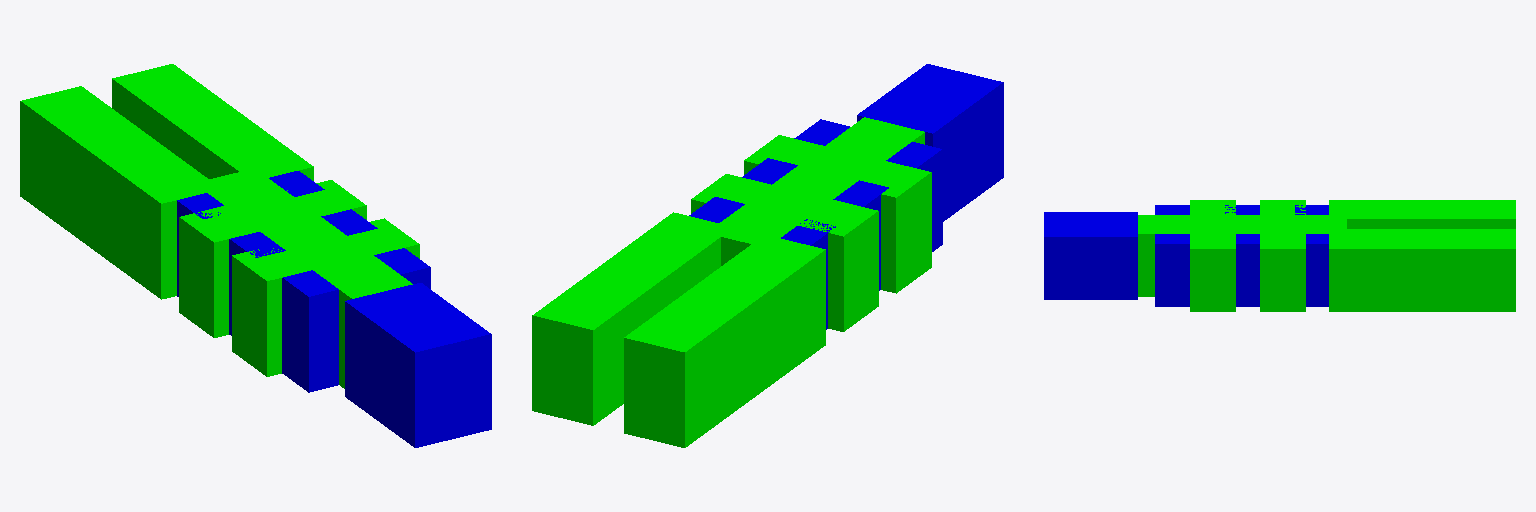
The robot description file, URDF, robot "robot":
<robot name = "robot">
    <link name="root">
        <inertial>
            <origin xyz="0.0 0.0 1.5" rpy="0 0 0"/>
            <mass value="1" />
            <inertia ixx="100" ixy="0" ixz="0" iyy="100" iyz="0" izz="100" />
        </inertial>
        <visual>
            <origin xyz="0.0 0.0 1.5" rpy="0 0 0"/>
            <geometry>
                <box size="0 0 0.0001" />
            </geometry>
            <material name="Green">
                <color rgba="0 1.0 0.0 1.0"/>
            </material>
        </visual>
        <collision>
            <origin xyz="0.0 0.0 1.5" rpy="0 0 0"/>
            <geometry>
                <box size="0 0 0.0001" />
            </geometry>
        </collision>
    </link>
    <joint name="root_000" type="revolute">
       <parent link="root"/>
       <child  link="000"/>
       <origin rpy="0 0 0" xyz="0.0 0.0 1.5" />
     <axis xyz="1 0 0"/>
       <limit effort="0.0" lower="-3.14159" upper="3.14159" velocity="0.0"/>
    </joint>
    <link name="000">
        <inertial>
            <origin xyz="0.0 0.2 0.0" rpy="0 0 0"/>
            <mass value="1" />
            <inertia ixx="100" ixy="0" ixz="0" iyy="100" iyz="0" izz="100" />
        </inertial>
        <visual>
            <origin xyz="0.0 0.2 0.0" rpy="0 0 0"/>
            <geometry>
                <box size="0.5 0.4 0.6" />
            </geometry>
            <material name="Blue">
                <color rgba="0 0.0 1.0 1.0"/>
            </material>
        </visual>
        <collision>
            <origin xyz="0.0 0.2 0.0" rpy="0 0 0"/>
            <geometry>
                <box size="0.5 0.4 0.6" />
            </geometry>
        </collision>
    </link>
    <joint name="000_010" type="revolute">
       <parent link="000"/>
       <child  link="010"/>
       <origin rpy="0 0 0" xyz="0.0 0.4 -0.0" />
     <axis xyz="0 1 0"/>
       <limit effort="0.0" lower="-3.14159" upper="3.14159" velocity="0.0"/>
    </joint>
    <link name="010">
        <inertial>
            <origin xyz="0.0 0.2 -0.0" rpy="0 0 0"/>
            <mass value="1" />
            <inertia ixx="100" ixy="0" ixz="0" iyy="100" iyz="0" izz="100" />
        </inertial>
        <visual>
            <origin xyz="0.0 0.2 -0.0" rpy="0 0 0"/>
            <geometry>
                <box size="0.5 0.4 0.6" />
            </geometry>
            <material name="Blue">
                <color rgba="0 0.0 1.0 1.0"/>
            </material>
        </visual>
        <collision>
            <origin xyz="0.0 0.2 -0.0" rpy="0 0 0"/>
            <geometry>
                <box size="0.5 0.4 0.6" />
            </geometry>
        </collision>
    </link>
    <joint name="010_010-100" type="revolute">
       <parent link="010"/>
       <child  link="010-100"/>
       <origin rpy="0 0 0" xyz="0.0 0.4 -0.0" />
     <axis xyz="0 1 0"/>
       <limit effort="0.0" lower="-3.14159" upper="3.14159" velocity="0.0"/>
    </joint>
    <link name="010-100">
        <inertial>
            <origin xyz="0.0 0.3 -0.0" rpy="0 0 0"/>
            <mass value="1" />
            <inertia ixx="100" ixy="0" ixz="0" iyy="100" iyz="0" izz="100" />
        </inertial>
        <visual>
            <origin xyz="0.0 0.3 -0.0" rpy="0 0 0"/>
            <geometry>
                <box size="0.4 0.6 0.6" />
            </geometry>
            <material name="Green">
                <color rgba="0 1.0 0.0 1.0"/>
            </material>
        </visual>
        <collision>
            <origin xyz="0.0 0.3 -0.0" rpy="0 0 0"/>
            <geometry>
                <box size="0.4 0.6 0.6" />
            </geometry>
        </collision>
    </link>
    <joint name="010-100_010-110" type="revolute">
       <parent link="010-100"/>
       <child  link="010-110"/>
       <origin rpy="0 0 0" xyz="0.0 0.6 -0.0" />
     <axis xyz="0 1 0"/>
       <limit effort="0.0" lower="-3.14159" upper="3.14159" velocity="0.0"/>
    </joint>
    <link name="010-110">
        <inertial>
            <origin xyz="0.0 0.3 -0.0" rpy="0 0 0"/>
            <mass value="1" />
            <inertia ixx="100" ixy="0" ixz="0" iyy="100" iyz="0" izz="100" />
        </inertial>
        <visual>
            <origin xyz="0.0 0.3 -0.0" rpy="0 0 0"/>
            <geometry>
                <box size="0.4 0.6 0.6" />
            </geometry>
            <material name="Green">
                <color rgba="0 1.0 0.0 1.0"/>
            </material>
        </visual>
        <collision>
            <origin xyz="0.0 0.3 -0.0" rpy="0 0 0"/>
            <geometry>
                <box size="0.4 0.6 0.6" />
            </geometry>
        </collision>
    </link>
    <joint name="010-110_010-120" type="revolute">
       <parent link="010-110"/>
       <child  link="010-120"/>
       <origin rpy="0 0 0" xyz="0.0 0.6 -0.0" />
     <axis xyz="0 1 0"/>
       <limit effort="0.0" lower="-3.14159" upper="3.14159" velocity="0.0"/>
    </joint>
    <link name="010-120">
        <inertial>
            <origin xyz="0.0 0.3 -0.0" rpy="0 0 0"/>
            <mass value="1" />
            <inertia ixx="100" ixy="0" ixz="0" iyy="100" iyz="0" izz="100" />
        </inertial>
        <visual>
            <origin xyz="0.0 0.3 -0.0" rpy="0 0 0"/>
            <geometry>
                <box size="0.4 0.6 0.6" />
            </geometry>
            <material name="Green">
                <color rgba="0 1.0 0.0 1.0"/>
            </material>
        </visual>
        <collision>
            <origin xyz="0.0 0.3 -0.0" rpy="0 0 0"/>
            <geometry>
                <box size="0.4 0.6 0.6" />
            </geometry>
        </collision>
    </link>
    <joint name="010-120_010-120-200" type="revolute">
       <parent link="010-120"/>
       <child  link="010-120-200"/>
       <origin rpy="0 0 0" xyz="0.2 0.3 -0.0" />
     <axis xyz="1 0 0"/>
       <limit effort="0.0" lower="-3.14159" upper="3.14159" velocity="0.0"/>
    </joint>
    <link name="010-120-200">
        <inertial>
            <origin xyz="0.1 0.0 -0.0" rpy="0 0 0"/>
            <mass value="1" />
            <inertia ixx="100" ixy="0" ixz="0" iyy="100" iyz="0" izz="100" />
        </inertial>
        <visual>
            <origin xyz="0.1 0.0 -0.0" rpy="0 0 0"/>
            <geometry>
                <box size="0.2 0.3 0.6" />
            </geometry>
            <material name="Blue">
                <color rgba="0 0.0 1.0 1.0"/>
            </material>
        </visual>
        <collision>
            <origin xyz="0.1 0.0 -0.0" rpy="0 0 0"/>
            <geometry>
                <box size="0.2 0.3 0.6" />
            </geometry>
        </collision>
    </link>
    <joint name="010-120-200_010-120-200-300" type="revolute">
       <parent link="010-120-200"/>
       <child  link="010-120-200-300"/>
       <origin rpy="0 0 0" xyz="0.1 0.15 -0.0" />
     <axis xyz="0 1 0"/>
       <limit effort="0.0" lower="-3.14159" upper="3.14159" velocity="0.0"/>
    </joint>
    <link name="010-120-200-300">
        <inertial>
            <origin xyz="0.0 0.2 -0.0" rpy="0 0 0"/>
            <mass value="1" />
            <inertia ixx="100" ixy="0" ixz="0" iyy="100" iyz="0" izz="100" />
        </inertial>
        <visual>
            <origin xyz="0.0 0.2 -0.0" rpy="0 0 0"/>
            <geometry>
                <box size="0.4 0.4 0.6" />
            </geometry>
            <material name="Green">
                <color rgba="0 1.0 0.0 1.0"/>
            </material>
        </visual>
        <collision>
            <origin xyz="0.0 0.2 -0.0" rpy="0 0 0"/>
            <geometry>
                <box size="0.4 0.4 0.6" />
            </geometry>
        </collision>
    </link>
    <joint name="010-120-200-300_010-120-200-310" type="revolute">
       <parent link="010-120-200-300"/>
       <child  link="010-120-200-310"/>
       <origin rpy="0 0 0" xyz="0.0 0.4 -0.0" />
     <axis xyz="0 1 0"/>
       <limit effort="0.0" lower="-3.14159" upper="3.14159" velocity="0.0"/>
    </joint>
    <link name="010-120-200-310">
        <inertial>
            <origin xyz="0.0 0.2 -0.0" rpy="0 0 0"/>
            <mass value="1" />
            <inertia ixx="100" ixy="0" ixz="0" iyy="100" iyz="0" izz="100" />
        </inertial>
        <visual>
            <origin xyz="0.0 0.2 -0.0" rpy="0 0 0"/>
            <geometry>
                <box size="0.4 0.4 0.6" />
            </geometry>
            <material name="Green">
                <color rgba="0 1.0 0.0 1.0"/>
            </material>
        </visual>
        <collision>
            <origin xyz="0.0 0.2 -0.0" rpy="0 0 0"/>
            <geometry>
                <box size="0.4 0.4 0.6" />
            </geometry>
        </collision>
    </link>
    <joint name="010-120-200-310_010-120-200-320" type="revolute">
       <parent link="010-120-200-310"/>
       <child  link="010-120-200-320"/>
       <origin rpy="0 0 0" xyz="0.0 0.4 -0.0" />
     <axis xyz="0 1 0"/>
       <limit effort="0.0" lower="-3.14159" upper="3.14159" velocity="0.0"/>
    </joint>
    <link name="010-120-200-320">
        <inertial>
            <origin xyz="0.0 0.2 -0.0" rpy="0 0 0"/>
            <mass value="1" />
            <inertia ixx="100" ixy="0" ixz="0" iyy="100" iyz="0" izz="100" />
        </inertial>
        <visual>
            <origin xyz="0.0 0.2 -0.0" rpy="0 0 0"/>
            <geometry>
                <box size="0.4 0.4 0.6" />
            </geometry>
            <material name="Green">
                <color rgba="0 1.0 0.0 1.0"/>
            </material>
        </visual>
        <collision>
            <origin xyz="0.0 0.2 -0.0" rpy="0 0 0"/>
            <geometry>
                <box size="0.4 0.4 0.6" />
            </geometry>
        </collision>
    </link>
    <joint name="010-120-200-320_010-120-200-330" type="revolute">
       <parent link="010-120-200-320"/>
       <child  link="010-120-200-330"/>
       <origin rpy="0 0 0" xyz="0.0 0.4 -0.0" />
     <axis xyz="0 1 0"/>
       <limit effort="0.0" lower="-3.14159" upper="3.14159" velocity="0.0"/>
    </joint>
    <link name="010-120-200-330">
        <inertial>
            <origin xyz="0.0 0.2 -0.0" rpy="0 0 0"/>
            <mass value="1" />
            <inertia ixx="100" ixy="0" ixz="0" iyy="100" iyz="0" izz="100" />
        </inertial>
        <visual>
            <origin xyz="0.0 0.2 -0.0" rpy="0 0 0"/>
            <geometry>
                <box size="0.4 0.4 0.6" />
            </geometry>
            <material name="Green">
                <color rgba="0 1.0 0.0 1.0"/>
            </material>
        </visual>
        <collision>
            <origin xyz="0.0 0.2 -0.0" rpy="0 0 0"/>
            <geometry>
                <box size="0.4 0.4 0.6" />
            </geometry>
        </collision>
    </link>
    <joint name="010-120_010-120-201" type="revolute">
       <parent link="010-120"/>
       <child  link="010-120-201"/>
       <origin rpy="0 0 0" xyz="-0.2 0.3 -0.0" />
     <axis xyz="1 0 0"/>
       <limit effort="0.0" lower="-3.14159" upper="3.14159" velocity="0.0"/>
    </joint>
    <link name="010-120-201">
        <inertial>
            <origin xyz="-0.1 0.0 -0.0" rpy="0 0 0"/>
            <mass value="1" />
            <inertia ixx="100" ixy="0" ixz="0" iyy="100" iyz="0" izz="100" />
        </inertial>
        <visual>
            <origin xyz="-0.1 0.0 -0.0" rpy="0 0 0"/>
            <geometry>
                <box size="0.2 0.3 0.6" />
            </geometry>
            <material name="Blue">
                <color rgba="0 0.0 1.0 1.0"/>
            </material>
        </visual>
        <collision>
            <origin xyz="-0.1 0.0 -0.0" rpy="0 0 0"/>
            <geometry>
                <box size="0.2 0.3 0.6" />
            </geometry>
        </collision>
    </link>
    <joint name="010-120-201_010-120-201-300" type="revolute">
       <parent link="010-120-201"/>
       <child  link="010-120-201-300"/>
       <origin rpy="0 0 0" xyz="-0.1 0.15 -0.0" />
     <axis xyz="0 1 0"/>
       <limit effort="0.0" lower="-3.14159" upper="3.14159" velocity="0.0"/>
    </joint>
    <link name="010-120-201-300">
        <inertial>
            <origin xyz="-0.0 0.2 -0.0" rpy="0 0 0"/>
            <mass value="1" />
            <inertia ixx="100" ixy="0" ixz="0" iyy="100" iyz="0" izz="100" />
        </inertial>
        <visual>
            <origin xyz="-0.0 0.2 -0.0" rpy="0 0 0"/>
            <geometry>
                <box size="0.4 0.4 0.6" />
            </geometry>
            <material name="Green">
                <color rgba="0 1.0 0.0 1.0"/>
            </material>
        </visual>
        <collision>
            <origin xyz="-0.0 0.2 -0.0" rpy="0 0 0"/>
            <geometry>
                <box size="0.4 0.4 0.6" />
            </geometry>
        </collision>
    </link>
    <joint name="010-120-201-300_010-120-201-310" type="revolute">
       <parent link="010-120-201-300"/>
       <child  link="010-120-201-310"/>
       <origin rpy="0 0 0" xyz="-0.0 0.4 -0.0" />
     <axis xyz="0 1 0"/>
       <limit effort="0.0" lower="-3.14159" upper="3.14159" velocity="0.0"/>
    </joint>
    <link name="010-120-201-310">
        <inertial>
            <origin xyz="-0.0 0.2 -0.0" rpy="0 0 0"/>
            <mass value="1" />
            <inertia ixx="100" ixy="0" ixz="0" iyy="100" iyz="0" izz="100" />
        </inertial>
        <visual>
            <origin xyz="-0.0 0.2 -0.0" rpy="0 0 0"/>
            <geometry>
                <box size="0.4 0.4 0.6" />
            </geometry>
            <material name="Green">
                <color rgba="0 1.0 0.0 1.0"/>
            </material>
        </visual>
        <collision>
            <origin xyz="-0.0 0.2 -0.0" rpy="0 0 0"/>
            <geometry>
                <box size="0.4 0.4 0.6" />
            </geometry>
        </collision>
    </link>
    <joint name="010-120-201-310_010-120-201-320" type="revolute">
       <parent link="010-120-201-310"/>
       <child  link="010-120-201-320"/>
       <origin rpy="0 0 0" xyz="-0.0 0.4 -0.0" />
     <axis xyz="0 1 0"/>
       <limit effort="0.0" lower="-3.14159" upper="3.14159" velocity="0.0"/>
    </joint>
    <link name="010-120-201-320">
        <inertial>
            <origin xyz="-0.0 0.2 -0.0" rpy="0 0 0"/>
            <mass value="1" />
            <inertia ixx="100" ixy="0" ixz="0" iyy="100" iyz="0" izz="100" />
        </inertial>
        <visual>
            <origin xyz="-0.0 0.2 -0.0" rpy="0 0 0"/>
            <geometry>
                <box size="0.4 0.4 0.6" />
            </geometry>
            <material name="Green">
                <color rgba="0 1.0 0.0 1.0"/>
            </material>
        </visual>
        <collision>
            <origin xyz="-0.0 0.2 -0.0" rpy="0 0 0"/>
            <geometry>
                <box size="0.4 0.4 0.6" />
            </geometry>
        </collision>
    </link>
    <joint name="010-120-201-320_010-120-201-330" type="revolute">
       <parent link="010-120-201-320"/>
       <child  link="010-120-201-330"/>
       <origin rpy="0 0 0" xyz="-0.0 0.4 -0.0" />
     <axis xyz="0 1 0"/>
       <limit effort="0.0" lower="-3.14159" upper="3.14159" velocity="0.0"/>
    </joint>
    <link name="010-120-201-330">
        <inertial>
            <origin xyz="-0.0 0.2 -0.0" rpy="0 0 0"/>
            <mass value="1" />
            <inertia ixx="100" ixy="0" ixz="0" iyy="100" iyz="0" izz="100" />
        </inertial>
        <visual>
            <origin xyz="-0.0 0.2 -0.0" rpy="0 0 0"/>
            <geometry>
                <box size="0.4 0.4 0.6" />
            </geometry>
            <material name="Green">
                <color rgba="0 1.0 0.0 1.0"/>
            </material>
        </visual>
        <collision>
            <origin xyz="-0.0 0.2 -0.0" rpy="0 0 0"/>
            <geometry>
                <box size="0.4 0.4 0.6" />
            </geometry>
        </collision>
    </link>
    <joint name="010-110_010-110-200" type="revolute">
       <parent link="010-110"/>
       <child  link="010-110-200"/>
       <origin rpy="0 0 0" xyz="0.2 0.3 -0.0" />
     <axis xyz="1 0 0"/>
       <limit effort="0.0" lower="-3.14159" upper="3.14159" velocity="0.0"/>
    </joint>
    <link name="010-110-200">
        <inertial>
            <origin xyz="0.1 0.0 -0.0" rpy="0 0 0"/>
            <mass value="1" />
            <inertia ixx="100" ixy="0" ixz="0" iyy="100" iyz="0" izz="100" />
        </inertial>
        <visual>
            <origin xyz="0.1 0.0 -0.0" rpy="0 0 0"/>
            <geometry>
                <box size="0.2 0.3 0.6" />
            </geometry>
            <material name="Blue">
                <color rgba="0 0.0 1.0 1.0"/>
            </material>
        </visual>
        <collision>
            <origin xyz="0.1 0.0 -0.0" rpy="0 0 0"/>
            <geometry>
                <box size="0.2 0.3 0.6" />
            </geometry>
        </collision>
    </link>
    <joint name="010-110-200_010-110-200-300" type="revolute">
       <parent link="010-110-200"/>
       <child  link="010-110-200-300"/>
       <origin rpy="0 0 0" xyz="0.1 0.15 -0.0" />
     <axis xyz="0 1 0"/>
       <limit effort="0.0" lower="-3.14159" upper="3.14159" velocity="0.0"/>
    </joint>
    <link name="010-110-200-300">
        <inertial>
            <origin xyz="0.0 0.2 -0.0" rpy="0 0 0"/>
            <mass value="1" />
            <inertia ixx="100" ixy="0" ixz="0" iyy="100" iyz="0" izz="100" />
        </inertial>
        <visual>
            <origin xyz="0.0 0.2 -0.0" rpy="0 0 0"/>
            <geometry>
                <box size="0.4 0.4 0.6" />
            </geometry>
            <material name="Green">
                <color rgba="0 1.0 0.0 1.0"/>
            </material>
        </visual>
        <collision>
            <origin xyz="0.0 0.2 -0.0" rpy="0 0 0"/>
            <geometry>
                <box size="0.4 0.4 0.6" />
            </geometry>
        </collision>
    </link>
    <joint name="010-110_010-110-201" type="revolute">
       <parent link="010-110"/>
       <child  link="010-110-201"/>
       <origin rpy="0 0 0" xyz="-0.2 0.3 -0.0" />
     <axis xyz="1 0 0"/>
       <limit effort="0.0" lower="-3.14159" upper="3.14159" velocity="0.0"/>
    </joint>
    <link name="010-110-201">
        <inertial>
            <origin xyz="-0.1 0.0 -0.0" rpy="0 0 0"/>
            <mass value="1" />
            <inertia ixx="100" ixy="0" ixz="0" iyy="100" iyz="0" izz="100" />
        </inertial>
        <visual>
            <origin xyz="-0.1 0.0 -0.0" rpy="0 0 0"/>
            <geometry>
                <box size="0.2 0.3 0.6" />
            </geometry>
            <material name="Blue">
                <color rgba="0 0.0 1.0 1.0"/>
            </material>
        </visual>
        <collision>
            <origin xyz="-0.1 0.0 -0.0" rpy="0 0 0"/>
            <geometry>
                <box size="0.2 0.3 0.6" />
            </geometry>
        </collision>
    </link>
    <joint name="010-110-201_010-110-201-300" type="revolute">
       <parent link="010-110-201"/>
       <child  link="010-110-201-300"/>
       <origin rpy="0 0 0" xyz="-0.1 0.15 -0.0" />
     <axis xyz="0 1 0"/>
       <limit effort="0.0" lower="-3.14159" upper="3.14159" velocity="0.0"/>
    </joint>
    <link name="010-110-201-300">
        <inertial>
            <origin xyz="-0.0 0.2 -0.0" rpy="0 0 0"/>
            <mass value="1" />
            <inertia ixx="100" ixy="0" ixz="0" iyy="100" iyz="0" izz="100" />
        </inertial>
        <visual>
            <origin xyz="-0.0 0.2 -0.0" rpy="0 0 0"/>
            <geometry>
                <box size="0.4 0.4 0.6" />
            </geometry>
            <material name="Green">
                <color rgba="0 1.0 0.0 1.0"/>
            </material>
        </visual>
        <collision>
            <origin xyz="-0.0 0.2 -0.0" rpy="0 0 0"/>
            <geometry>
                <box size="0.4 0.4 0.6" />
            </geometry>
        </collision>
    </link>
    <joint name="010-100_010-100-200" type="revolute">
       <parent link="010-100"/>
       <child  link="010-100-200"/>
       <origin rpy="0 0 0" xyz="0.2 0.3 -0.0" />
     <axis xyz="1 0 0"/>
       <limit effort="0.0" lower="-3.14159" upper="3.14159" velocity="0.0"/>
    </joint>
    <link name="010-100-200">
        <inertial>
            <origin xyz="0.1 0.0 -0.0" rpy="0 0 0"/>
            <mass value="1" />
            <inertia ixx="100" ixy="0" ixz="0" iyy="100" iyz="0" izz="100" />
        </inertial>
        <visual>
            <origin xyz="0.1 0.0 -0.0" rpy="0 0 0"/>
            <geometry>
                <box size="0.2 0.3 0.6" />
            </geometry>
            <material name="Blue">
                <color rgba="0 0.0 1.0 1.0"/>
            </material>
        </visual>
        <collision>
            <origin xyz="0.1 0.0 -0.0" rpy="0 0 0"/>
            <geometry>
                <box size="0.2 0.3 0.6" />
            </geometry>
        </collision>
    </link>
    <joint name="010-100-200_010-100-200-300" type="revolute">
       <parent link="010-100-200"/>
       <child  link="010-100-200-300"/>
       <origin rpy="0 0 0" xyz="0.1 0.15 -0.0" />
     <axis xyz="0 1 0"/>
       <limit effort="0.0" lower="-3.14159" upper="3.14159" velocity="0.0"/>
    </joint>
    <link name="010-100-200-300">
        <inertial>
            <origin xyz="0.0 0.2 -0.0" rpy="0 0 0"/>
            <mass value="1" />
            <inertia ixx="100" ixy="0" ixz="0" iyy="100" iyz="0" izz="100" />
        </inertial>
        <visual>
            <origin xyz="0.0 0.2 -0.0" rpy="0 0 0"/>
            <geometry>
                <box size="0.4 0.4 0.6" />
            </geometry>
            <material name="Green">
                <color rgba="0 1.0 0.0 1.0"/>
            </material>
        </visual>
        <collision>
            <origin xyz="0.0 0.2 -0.0" rpy="0 0 0"/>
            <geometry>
                <box size="0.4 0.4 0.6" />
            </geometry>
        </collision>
    </link>
    <joint name="010-100_010-100-201" type="revolute">
       <parent link="010-100"/>
       <child  link="010-100-201"/>
       <origin rpy="0 0 0" xyz="-0.2 0.3 -0.0" />
     <axis xyz="1 0 0"/>
       <limit effort="0.0" lower="-3.14159" upper="3.14159" velocity="0.0"/>
    </joint>
    <link name="010-100-201">
        <inertial>
            <origin xyz="-0.1 0.0 -0.0" rpy="0 0 0"/>
            <mass value="1" />
            <inertia ixx="100" ixy="0" ixz="0" iyy="100" iyz="0" izz="100" />
        </inertial>
        <visual>
            <origin xyz="-0.1 0.0 -0.0" rpy="0 0 0"/>
            <geometry>
                <box size="0.2 0.3 0.6" />
            </geometry>
            <material name="Blue">
                <color rgba="0 0.0 1.0 1.0"/>
            </material>
        </visual>
        <collision>
            <origin xyz="-0.1 0.0 -0.0" rpy="0 0 0"/>
            <geometry>
                <box size="0.2 0.3 0.6" />
            </geometry>
        </collision>
    </link>
    <joint name="010-100-201_010-100-201-300" type="revolute">
       <parent link="010-100-201"/>
       <child  link="010-100-201-300"/>
       <origin rpy="0 0 0" xyz="-0.1 0.15 -0.0" />
     <axis xyz="0 1 0"/>
       <limit effort="0.0" lower="-3.14159" upper="3.14159" velocity="0.0"/>
    </joint>
    <link name="010-100-201-300">
        <inertial>
            <origin xyz="-0.0 0.2 -0.0" rpy="0 0 0"/>
            <mass value="1" />
            <inertia ixx="100" ixy="0" ixz="0" iyy="100" iyz="0" izz="100" />
        </inertial>
        <visual>
            <origin xyz="-0.0 0.2 -0.0" rpy="0 0 0"/>
            <geometry>
                <box size="0.4 0.4 0.6" />
            </geometry>
            <material name="Green">
                <color rgba="0 1.0 0.0 1.0"/>
            </material>
        </visual>
        <collision>
            <origin xyz="-0.0 0.2 -0.0" rpy="0 0 0"/>
            <geometry>
                <box size="0.4 0.4 0.6" />
            </geometry>
        </collision>
    </link>
</robot>

--- Facts derived from the render (not from the file) ---
3 views of the same robot in one strip: view 1: azimuth 30°, elevation 25°; view 2: azimuth 150°, elevation 25°; view 3: azimuth 270°, elevation 25° (orthographic).
Model robot with 24 links and 23 joints (23 revolute), rooted at root, posed every joint at zero.
Links seen in each view (by area): view 1: [phone redacted] (×18), 000, 010, 010-100, 010-110, 010-120; view 2: [phone redacted] (×18), 000, 010, 010-120, 010-100, 010-110; view 3: [phone redacted] (×15), 000, 010, 010-100, 010-110, 010-120.
Link boxes in pixels (box(x1,y1,x2,y2)): [phone redacted] (×18): box(20, 64, 430, 392); 000: box(380, 308, 491, 447); 010: box(345, 283, 454, 421); 010-100: box(300, 246, 412, 388); 010-110: box(249, 211, 359, 259); 010-120: box(208, 169, 291, 221); [phone redacted] (×18): box(532, 119, 942, 447); 000: box(892, 64, 1003, 203); 010: box(857, 90, 967, 221); 010-120: box(708, 195, 817, 265); 010-100: box(812, 117, 924, 170); 010-110: box(759, 156, 871, 208); [phone redacted] (×15): box(1155, 200, 1515, 311); 000: box(1044, 212, 1090, 299); 010: box(1091, 212, 1137, 299); 010-100: box(1138, 215, 1206, 296); 010-110: box(1207, 215, 1276, 233); 010-120: box(1277, 215, 1346, 233).
Size in the robot's own frame: 1 by 4.05 by 0.6 metres.
Geometry: primitives only (box / cylinder / sphere), no mesh files.
